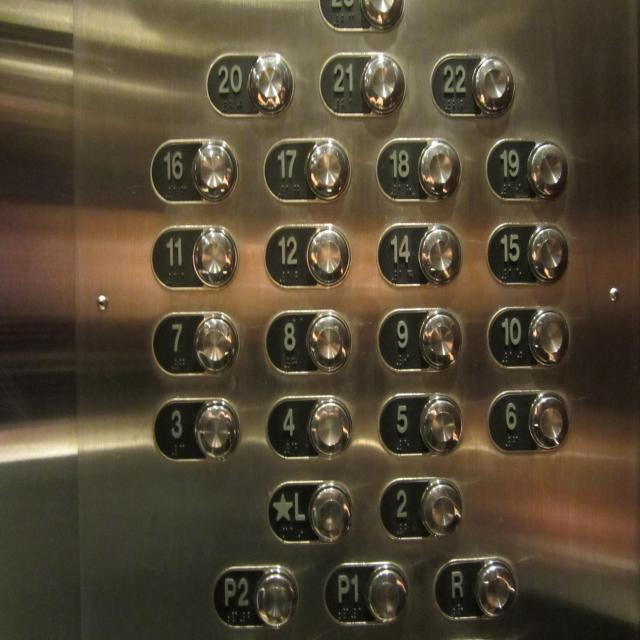10: (483, 300, 574, 370)
11: (147, 220, 242, 294)
12: (262, 222, 353, 291)
14: (375, 220, 466, 291)
15: (483, 219, 572, 289)
16: (147, 135, 240, 204)
17: (262, 134, 355, 205)
18: (374, 135, 463, 205)
19: (482, 136, 574, 201)
2: (375, 471, 468, 544)
20: (204, 49, 298, 118)
21: (316, 50, 411, 118)
22: (426, 52, 518, 119)
3: (149, 392, 244, 466)
4: (262, 390, 356, 465)
5: (376, 387, 466, 461)
6: (486, 384, 574, 458)
7: (147, 306, 239, 380)
8: (263, 306, 353, 377)
9: (372, 303, 463, 375)
P1: (321, 557, 412, 630)
P2: (208, 561, 298, 634)
R: (429, 552, 517, 624)
sL: (262, 476, 360, 548)
